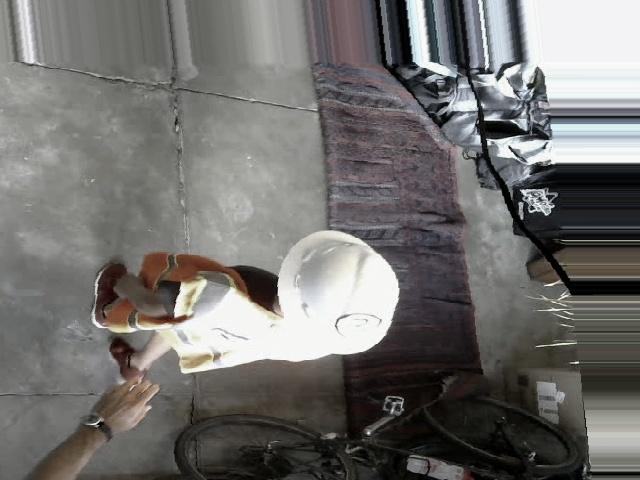three: (332, 311, 384, 339)
